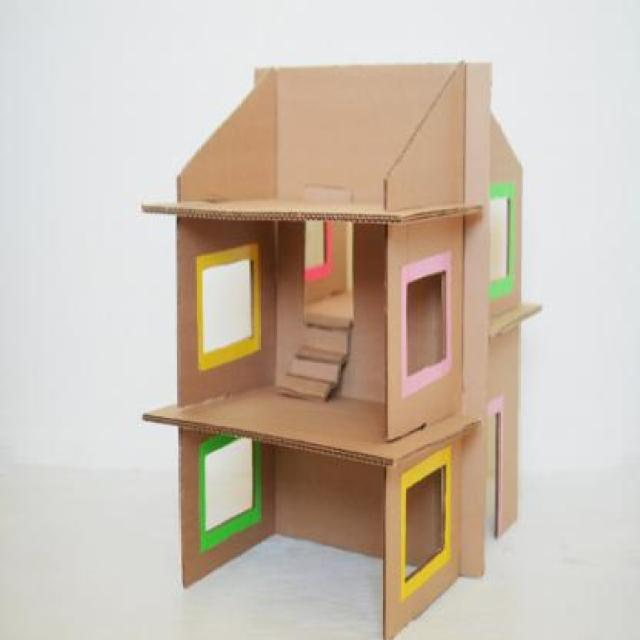box: (137, 37, 541, 640)
